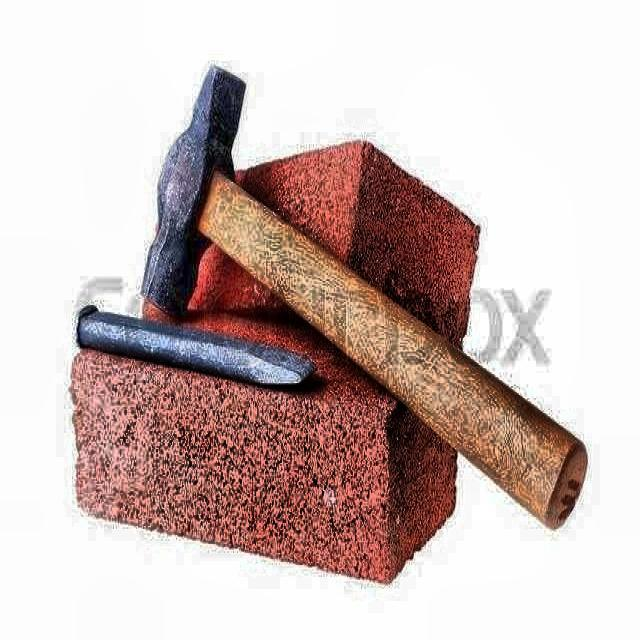hammer: (140, 62, 590, 532)
